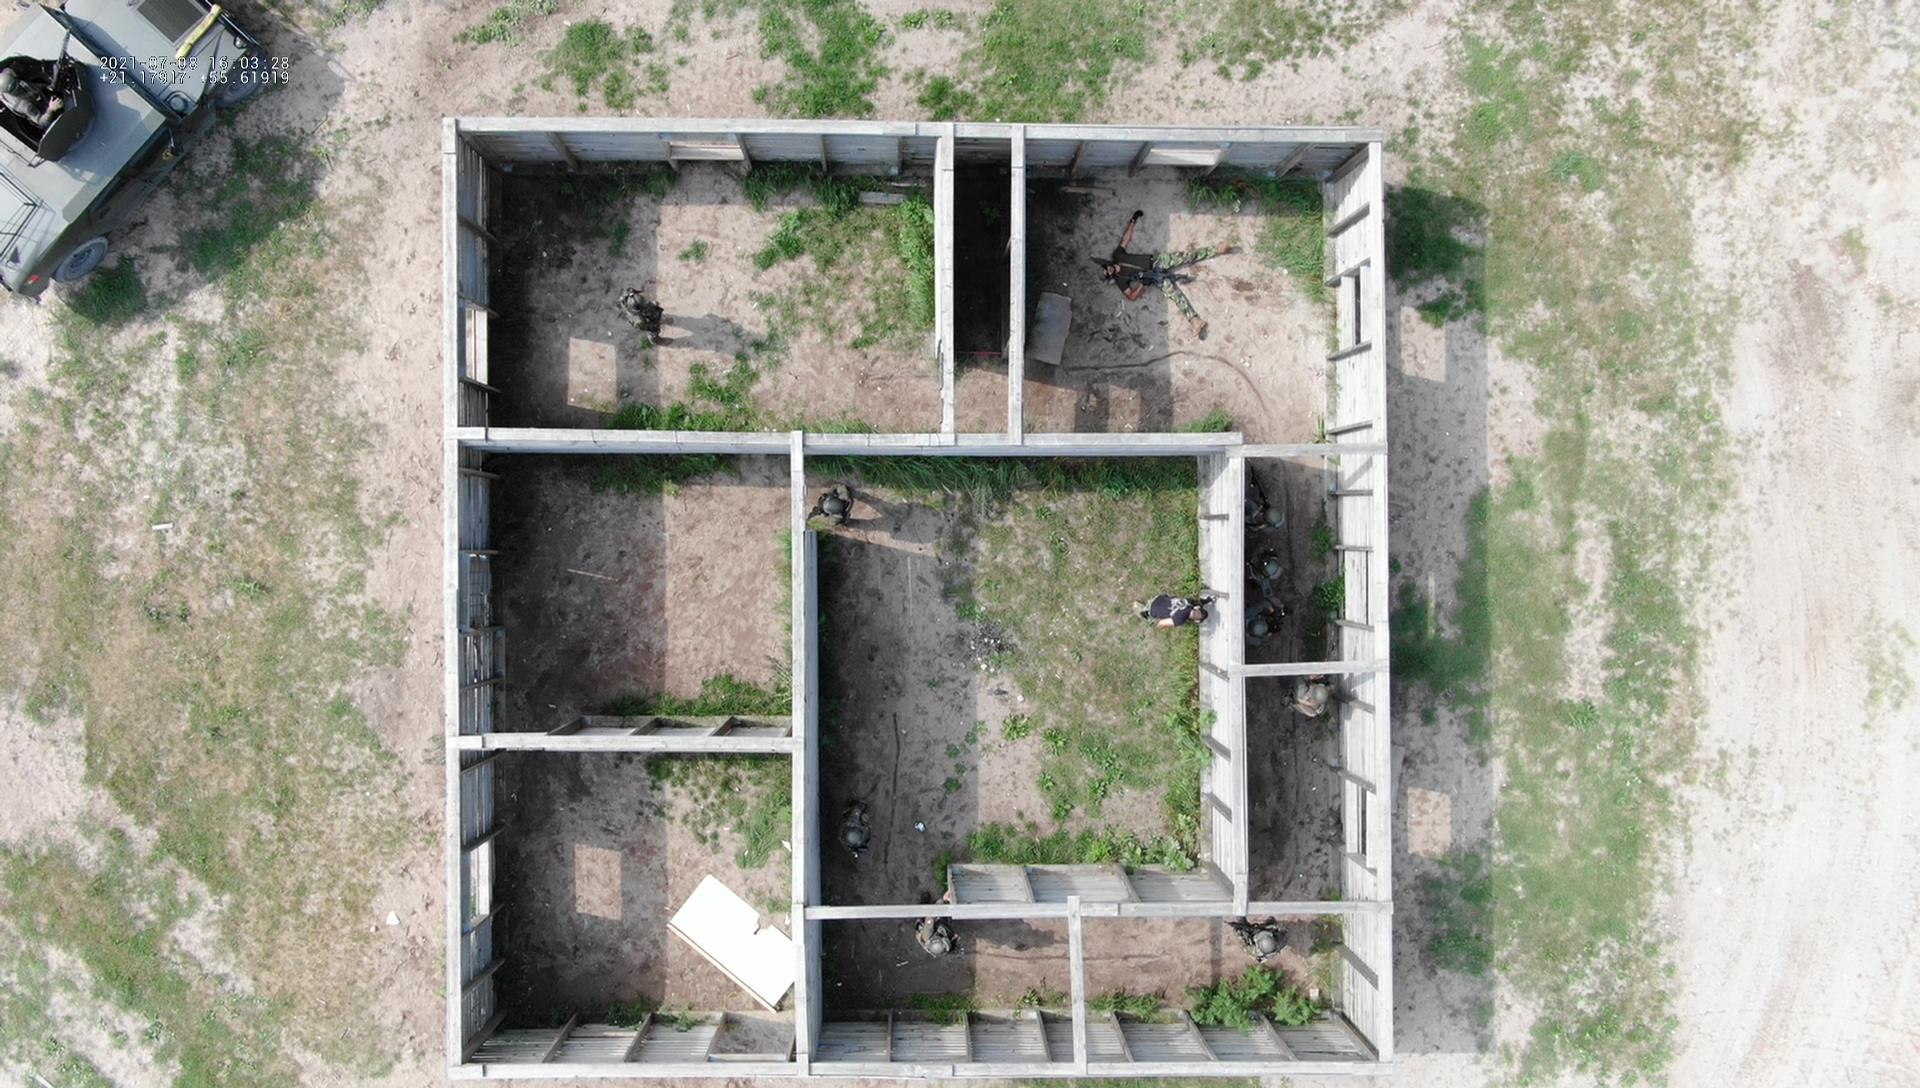Soldier: (1095, 199, 1247, 340), (837, 782, 907, 880), (3, 59, 75, 135), (1233, 909, 1312, 975), (611, 280, 680, 353), (808, 467, 865, 543), (1145, 580, 1215, 642), (1242, 589, 1288, 662), (1284, 675, 1344, 725), (1242, 473, 1286, 535), (1250, 543, 1292, 600), (910, 919, 957, 964)
